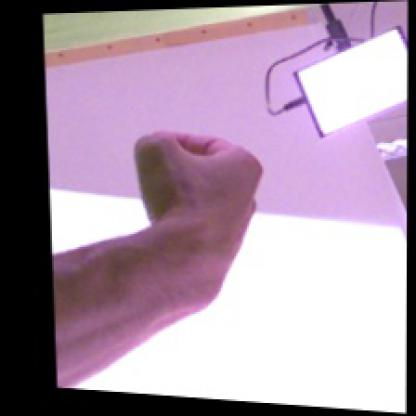Hand: (134, 128, 265, 312)
